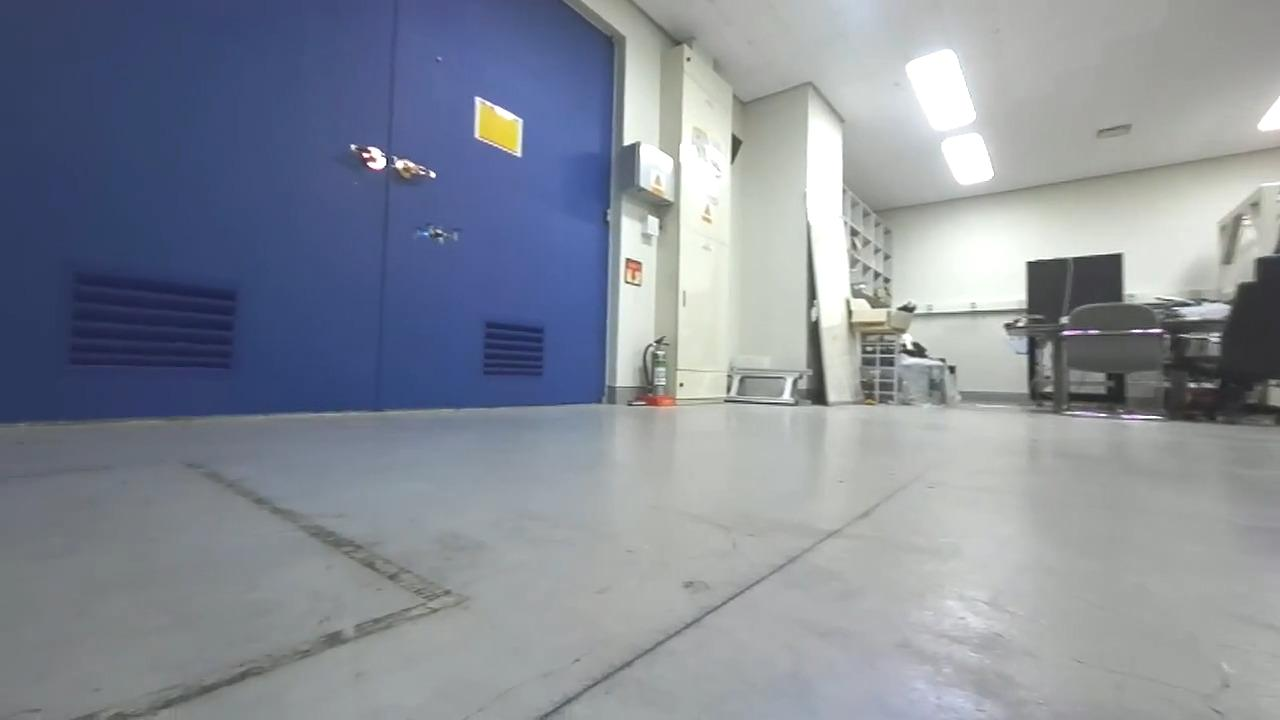crazyflie: (412, 220, 463, 248)
